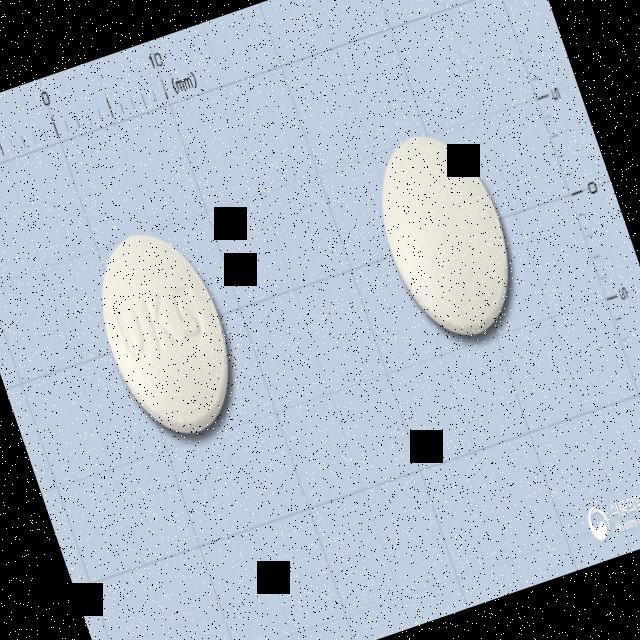Uniciprosacin Tab: (77, 213, 254, 451)
